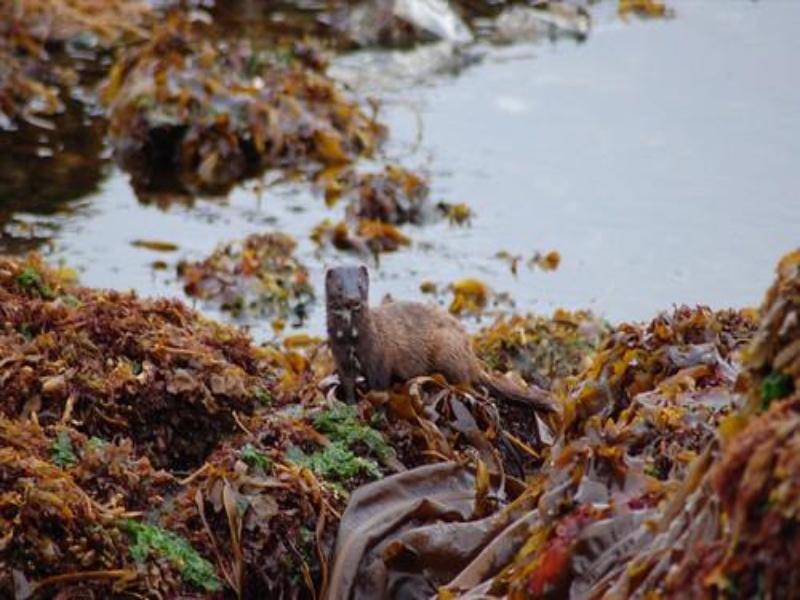minkish: (322, 262, 564, 418)
